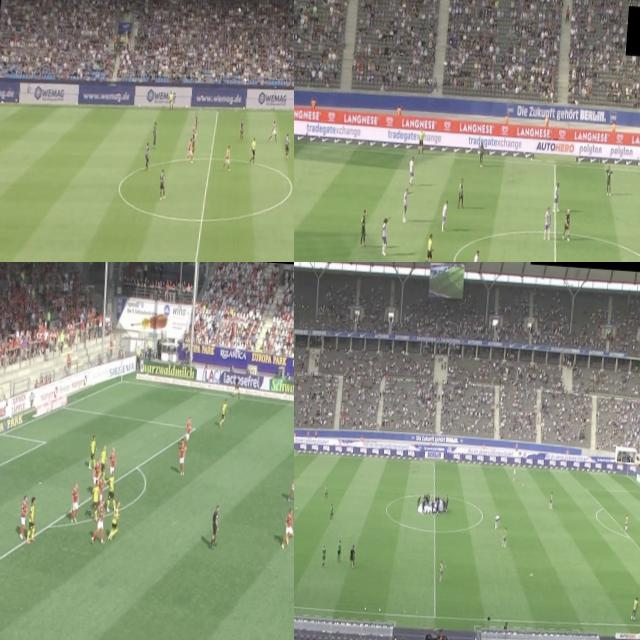ball: (528, 571, 533, 579), (521, 481, 525, 487)
player: (23, 492, 40, 544), (16, 492, 31, 540), (94, 501, 107, 545), (68, 480, 82, 519), (178, 438, 190, 478), (106, 472, 118, 510), (88, 433, 99, 471), (542, 204, 553, 241), (379, 212, 388, 256), (110, 501, 120, 540), (98, 442, 108, 480), (285, 507, 294, 548), (91, 458, 101, 494), (218, 399, 230, 426), (550, 178, 560, 210), (91, 482, 101, 514), (96, 474, 106, 506), (108, 446, 117, 481), (359, 208, 368, 242), (222, 144, 232, 173), (158, 168, 166, 202), (457, 176, 465, 210), (268, 118, 278, 145), (440, 198, 448, 230), (605, 166, 613, 196), (184, 417, 194, 441), (476, 142, 485, 168), (629, 597, 638, 623), (289, 464, 294, 509), (144, 142, 152, 170), (186, 136, 194, 164), (401, 189, 408, 219), (408, 156, 416, 182), (192, 111, 200, 135), (320, 542, 328, 566), (191, 122, 197, 152), (470, 248, 482, 262), (284, 132, 290, 159), (152, 120, 158, 146), (238, 118, 244, 142), (328, 502, 335, 522), (492, 514, 502, 528), (336, 539, 342, 561), (439, 559, 445, 581), (502, 526, 506, 547), (512, 467, 517, 482), (324, 482, 328, 500), (549, 490, 553, 508), (624, 513, 628, 530), (352, 544, 355, 565)
